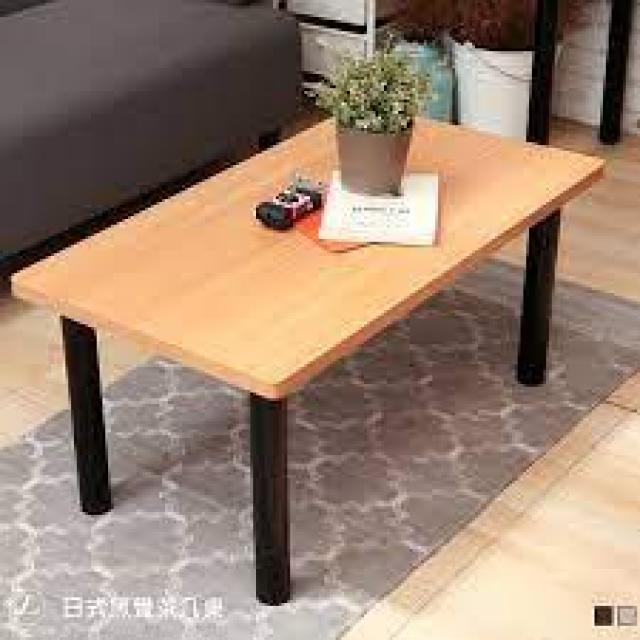table: (16, 91, 593, 543)
